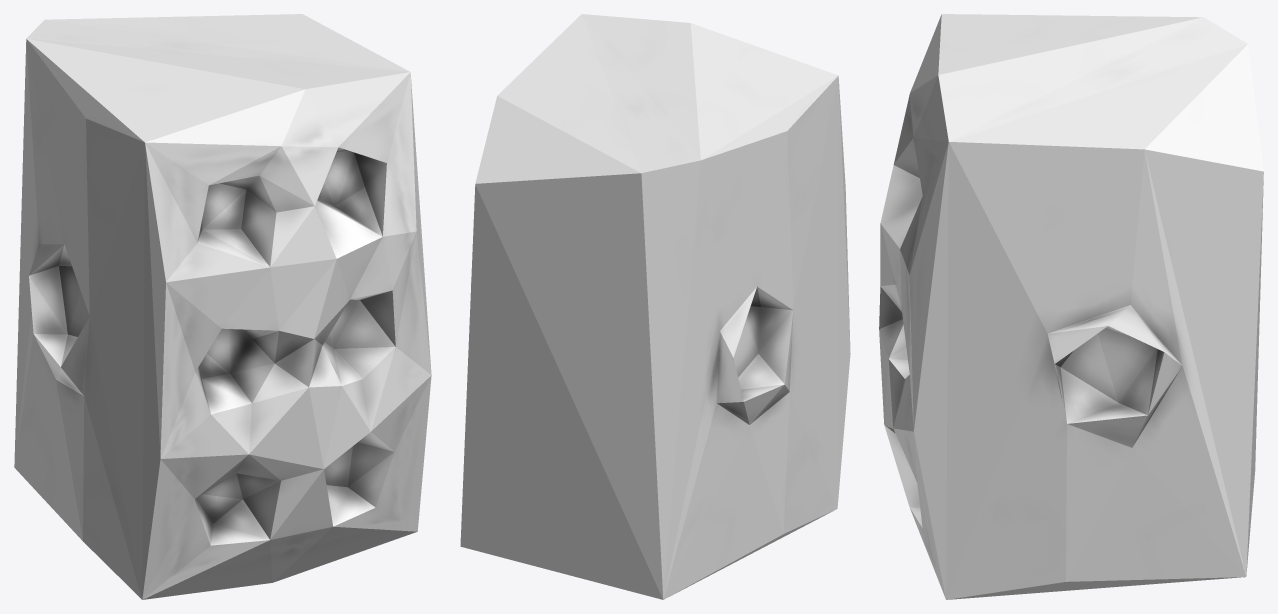
Rendered from TurretRocket.OBJ.
3 renders of one model, left to right at view 1: azimuth 30°, elevation 25°; view 2: azimuth 150°, elevation 25°; view 3: azimuth 270°, elevation 25°, orthographic. The views are drawn at different scales.
Parts seen in each view (by area): view 1: ZBrushPolyMesh3D; view 2: ZBrushPolyMesh3D; view 3: ZBrushPolyMesh3D.
Part boxes in pixels (<box>): ZBrushPolyMesh3D: <box>14,14,431,599</box>; ZBrushPolyMesh3D: <box>460,14,850,599</box>; ZBrushPolyMesh3D: <box>879,14,1263,599</box>.
Size of the model in its own units: 1.26 by 1.95 by 1.4.
Materials: 1 (1 with a texture image).
